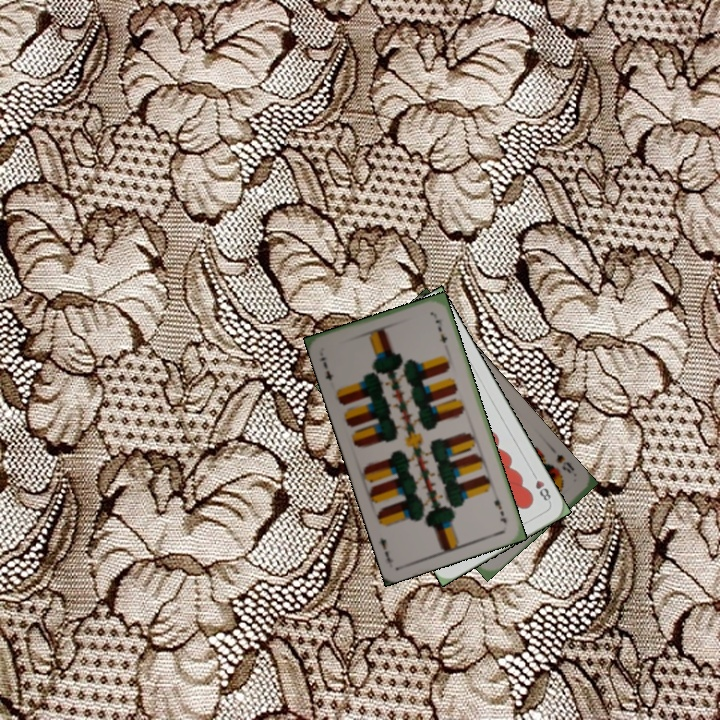E7: (490, 489, 509, 526), (315, 353, 336, 383)
H8: (528, 468, 554, 506)
S8: (552, 450, 577, 476)
